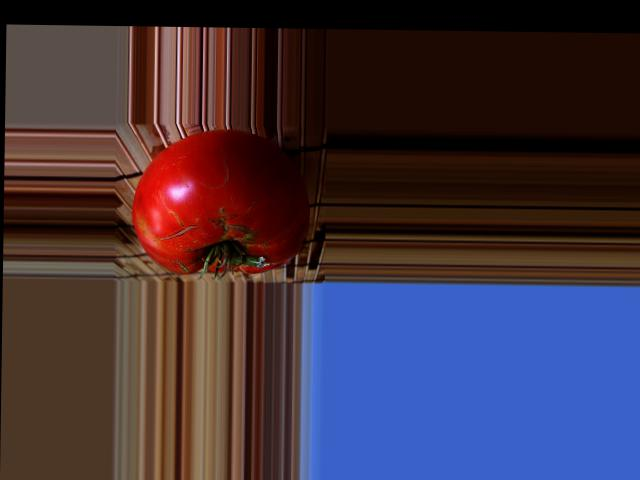tomato: (132, 130, 311, 275)
